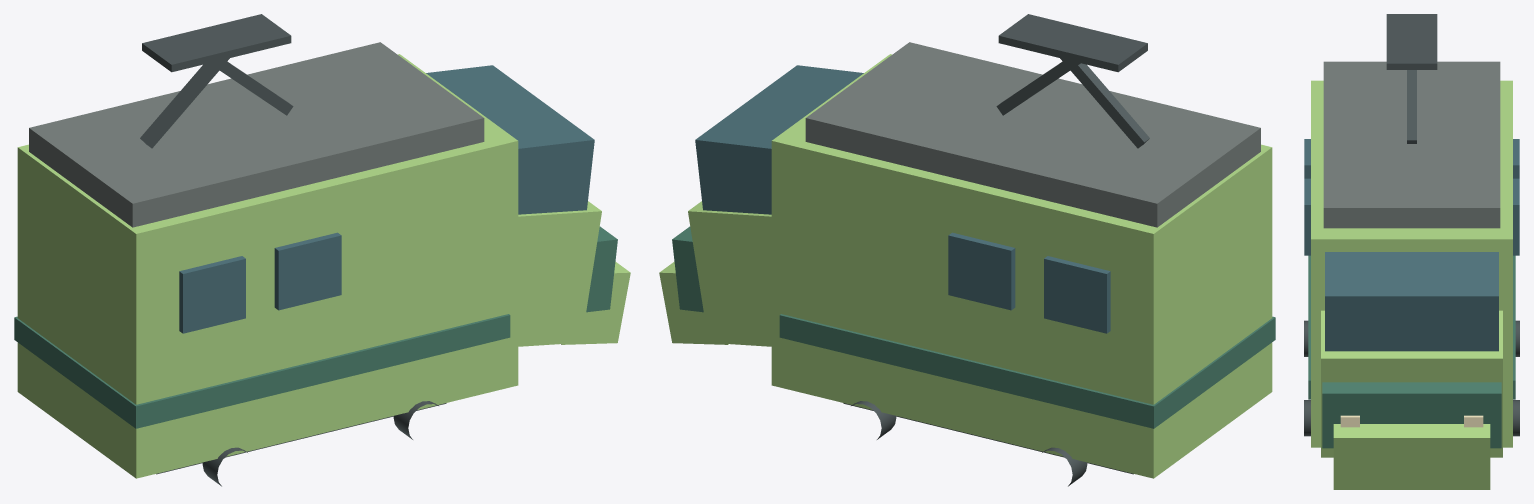
The model's file is flixtrain.glb.
The picture shows the model from 3 angles, left to right: view 1: azimuth 30°, elevation 25°; view 2: azimuth 150°, elevation 25°; view 3: azimuth 270°, elevation 25°; orthographic projection. The views are drawn at different scales.
Parts seen in each view (by area): view 1: body_shell, roof, livery_stripe, vectron_dark_brow, cab_nose_lower, pantograph_head_-0.18, window_0.72_1_1, window_0.72_0_1, cab_nose_tip, pantograph_left_-0.18, vectron_livery_face, pantograph_right_-0.18; view 2: body_shell, roof, livery_stripe, vectron_dark_brow, cab_nose_lower, pantograph_head_-0.18, window_0.72_1_0, window_0.72_0_0, cab_nose_tip, pantograph_left_-0.18, vectron_livery_face, pantograph_right_-0.18; view 3: roof, vectron_dark_brow, body_shell, cab_nose_tip, vectron_livery_face, cab_nose_lower, pantograph_head_-0.18, livery_stripe, pantograph_right_-0.18, window_0.72_1_0, window_0.72_1_1, window_0.72_0_0 (+5 smaller).
Boxes of the visible parts, box(x1,y1,x2,y2) form: body_shell: box(17, 54, 518, 478); roof: box(29, 42, 484, 227); livery_stripe: box(14, 314, 510, 428); vectron_dark_brow: box(426, 65, 594, 214); cab_nose_lower: box(518, 201, 601, 346); pantograph_head_-0.18: box(142, 14, 291, 72); window_0.72_1_1: box(274, 232, 341, 310); window_0.72_0_1: box(179, 256, 245, 333); cab_nose_tip: box(561, 261, 630, 344); pantograph_left_-0.18: box(140, 58, 229, 148); vectron_livery_face: box(586, 226, 617, 312); pantograph_right_-0.18: box(209, 60, 293, 115); body_shell: box(771, 54, 1272, 478); roof: box(805, 42, 1260, 227); livery_stripe: box(779, 314, 1275, 428); vectron_dark_brow: box(695, 65, 863, 214); cab_nose_lower: box(688, 201, 771, 346); pantograph_head_-0.18: box(998, 14, 1147, 72); window_0.72_1_0: box(948, 232, 1015, 310); window_0.72_0_0: box(1044, 256, 1110, 333); cab_nose_tip: box(659, 261, 728, 344); pantograph_left_-0.18: box(1060, 58, 1149, 148); vectron_livery_face: box(672, 226, 703, 312); pantograph_right_-0.18: box(996, 61, 1080, 115); roof: box(1323, 61, 1500, 228); vectron_dark_brow: box(1325, 252, 1498, 351); body_shell: box(1311, 80, 1512, 447); cab_nose_tip: box(1333, 424, 1490, 489); vectron_livery_face: box(1322, 382, 1501, 448); cab_nose_lower: box(1321, 310, 1502, 457); pantograph_head_-0.18: box(1386, 14, 1437, 69); livery_stripe: box(1308, 255, 1515, 399); pantograph_right_-0.18: box(1407, 70, 1416, 143); window_0.72_1_0: box(1513, 178, 1519, 255); window_0.72_1_1: box(1304, 178, 1310, 255); window_0.72_0_0: box(1513, 139, 1519, 178).
Bounding box in the file's own units: 1.79 × 1.32 × 0.77.
